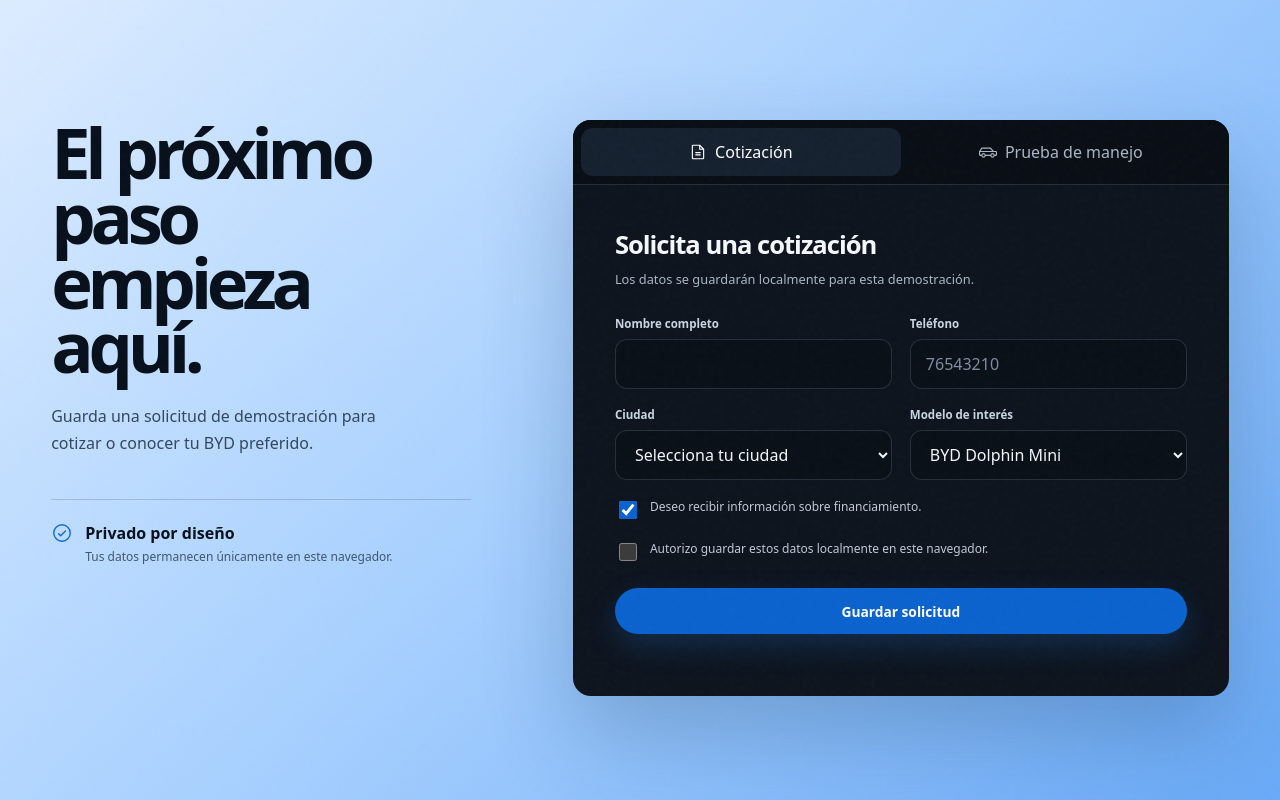
Scenario: keeps entered values when local storage fails
Type "Ana Pérez" into the field labelled "Nombre completo" at (753, 364), box [615, 339, 892, 389]
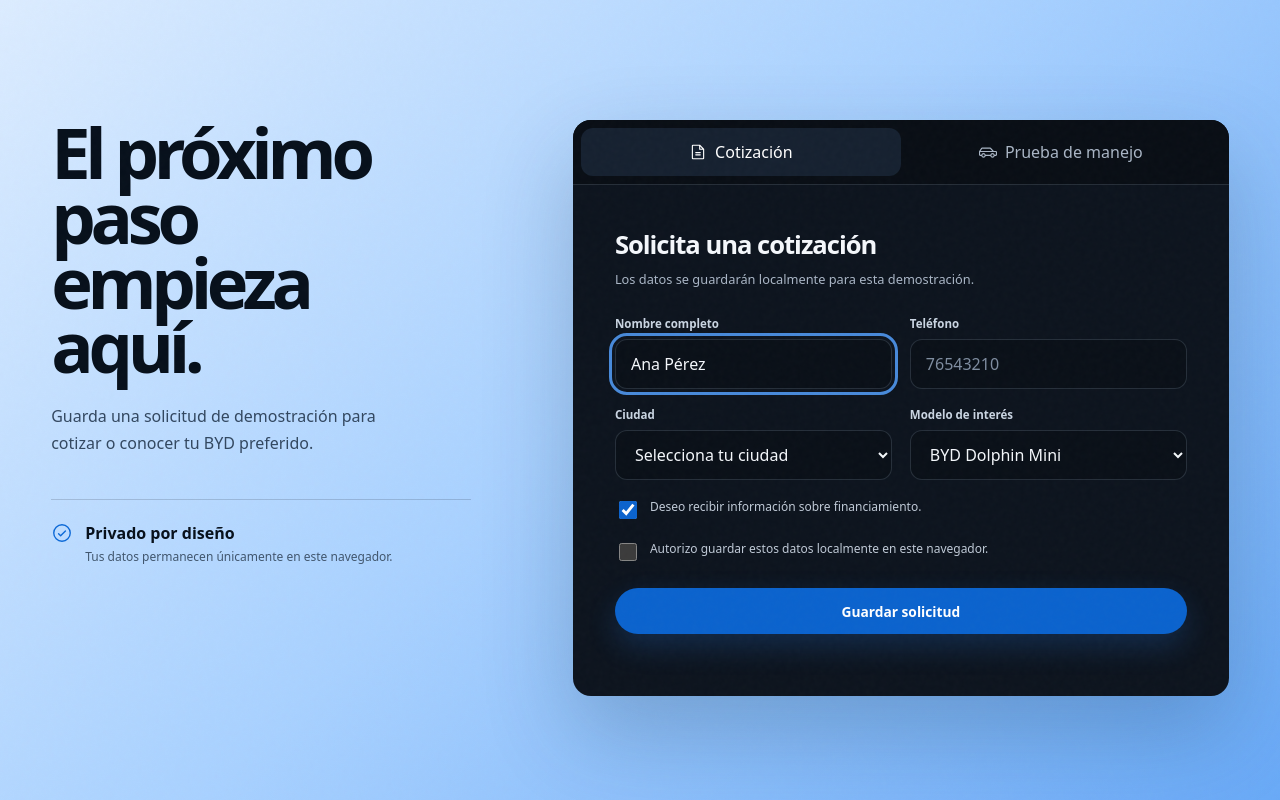
Type "765-43 210" into the field labelled "Teléfono" at (1048, 364), box [910, 339, 1187, 389]
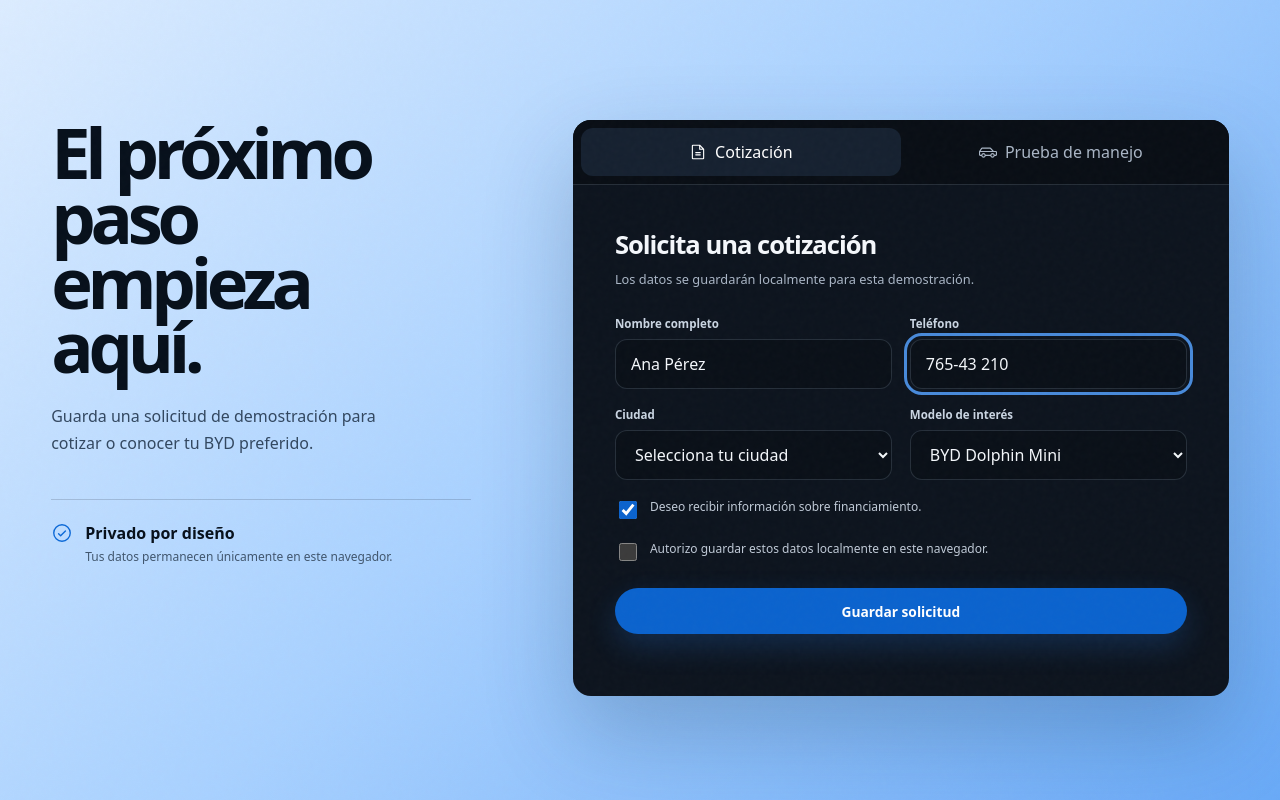
Select "La Paz" in the dropdown labelled "Ciudad" at (753, 455), box [615, 430, 892, 480]
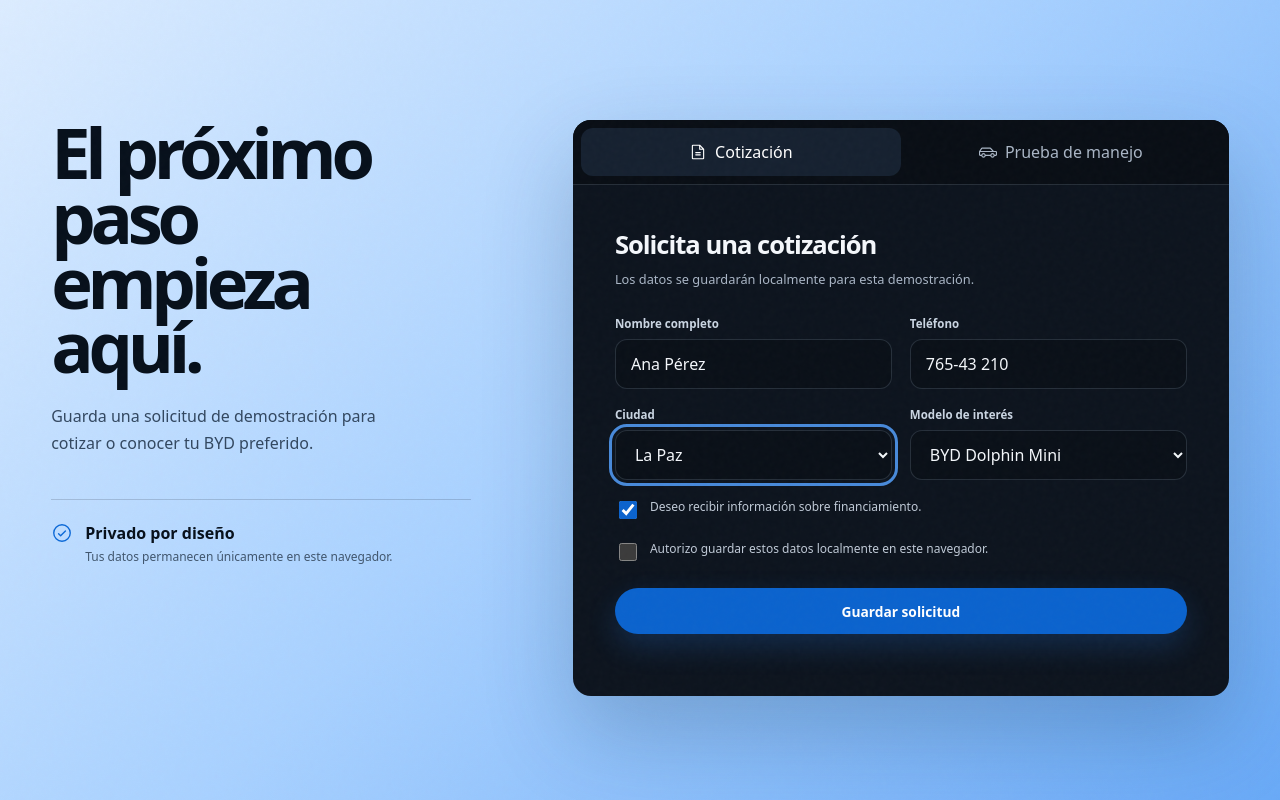
Click the checkbox labelled "Autorizo guardar estos datos localmente en este navegador." at (628, 552), box [619, 543, 637, 561]
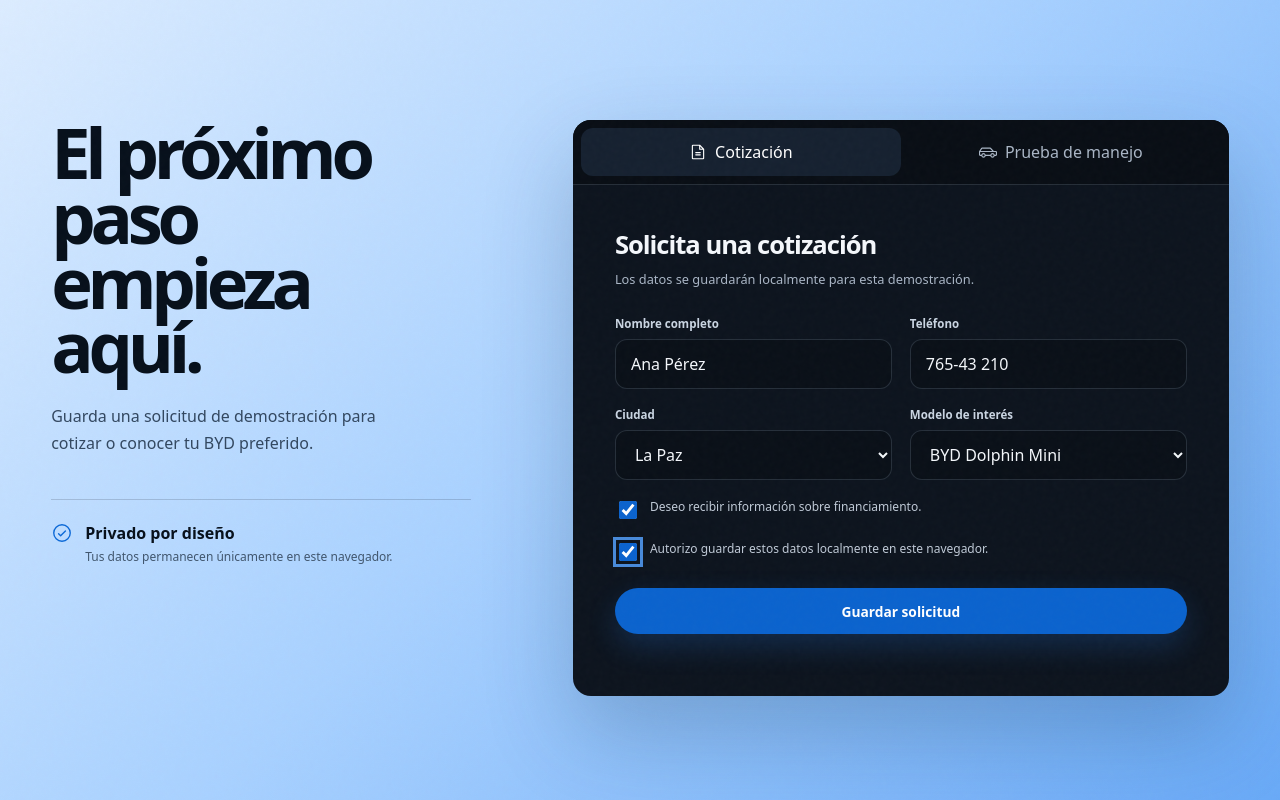
Click the button "Guardar solicitud" at (901, 611), box [615, 588, 1187, 634]
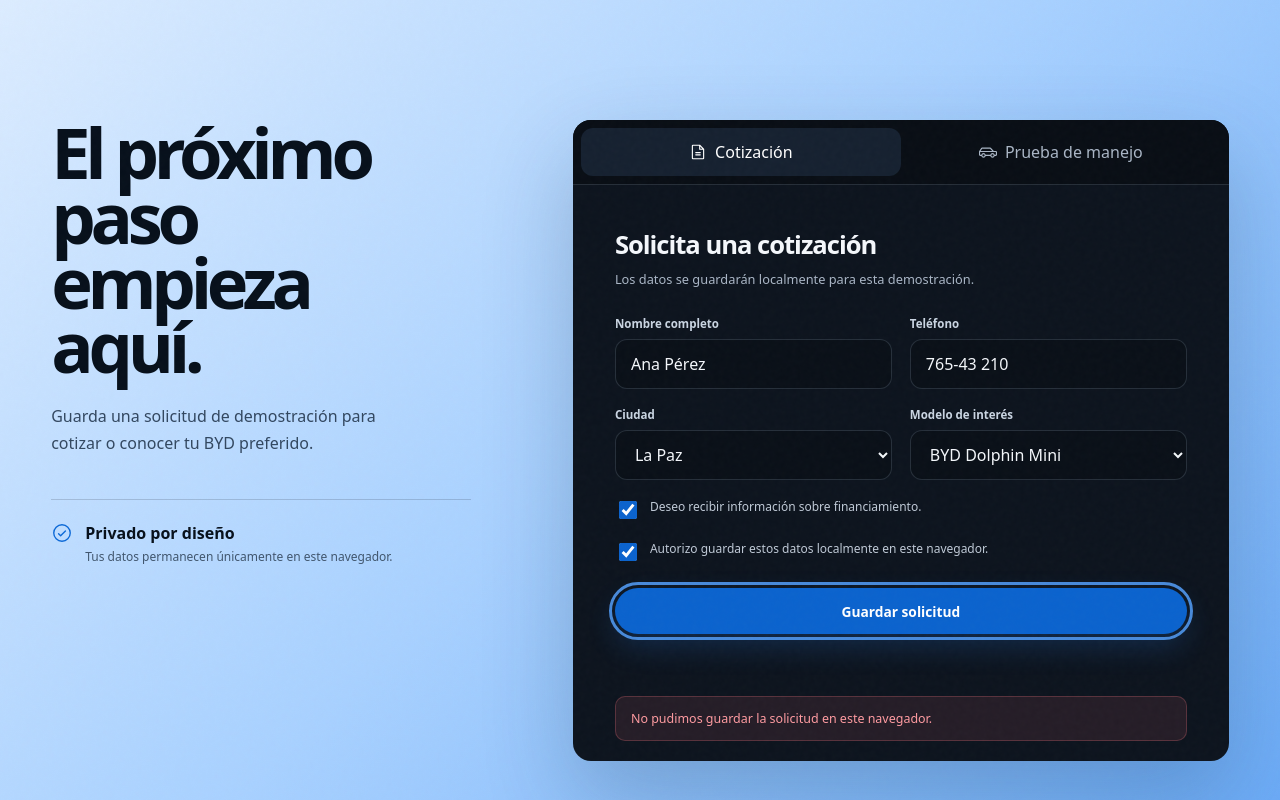
Now the message reads "No pudimos guardar la solicitud en este navegador.", box [631, 710, 932, 727]
